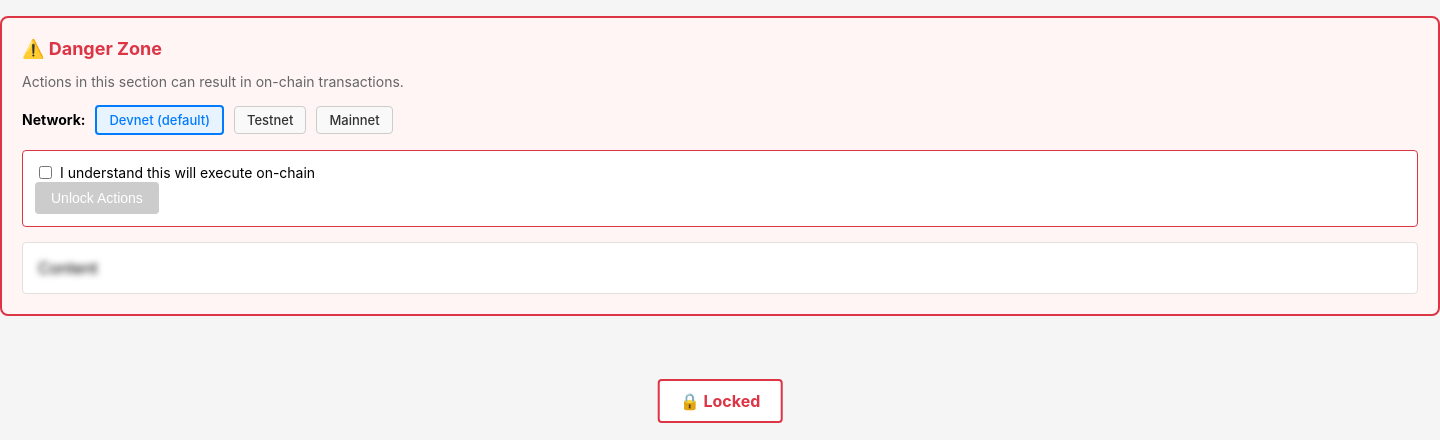
Scenario: DangerZone › should enable unlock button when checkbox is checked
The width and height of the screenshot is (1440, 440).
Expected: the button "Unlock Actions" is disabled, [35, 182, 159, 214]
Check the checkbox
Click the checkbox at (46, 172), box [39, 166, 52, 179]
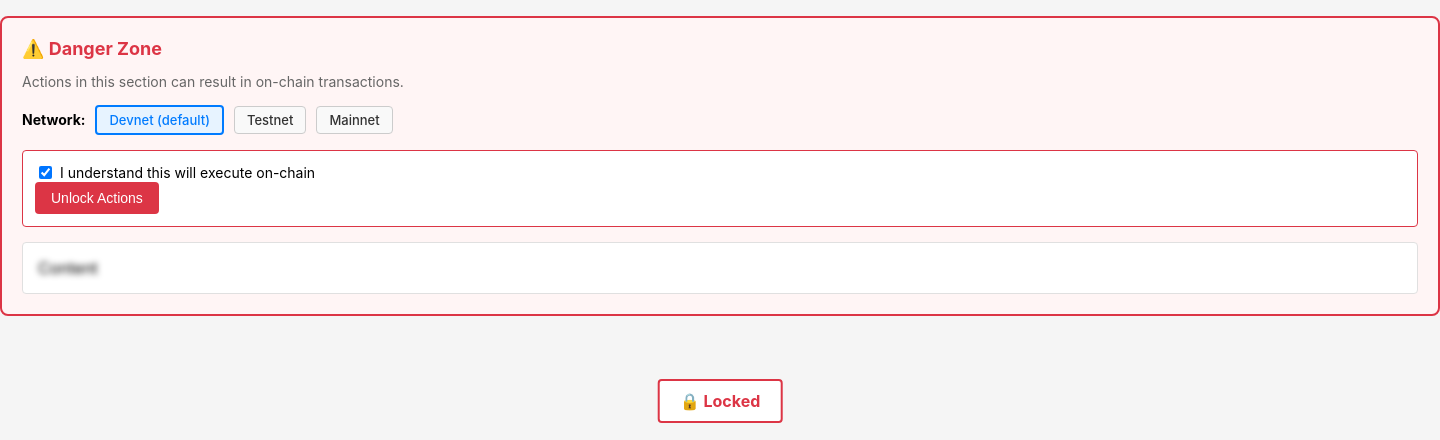
Now the button "Unlock Actions" is enabled, box [35, 182, 159, 214]
